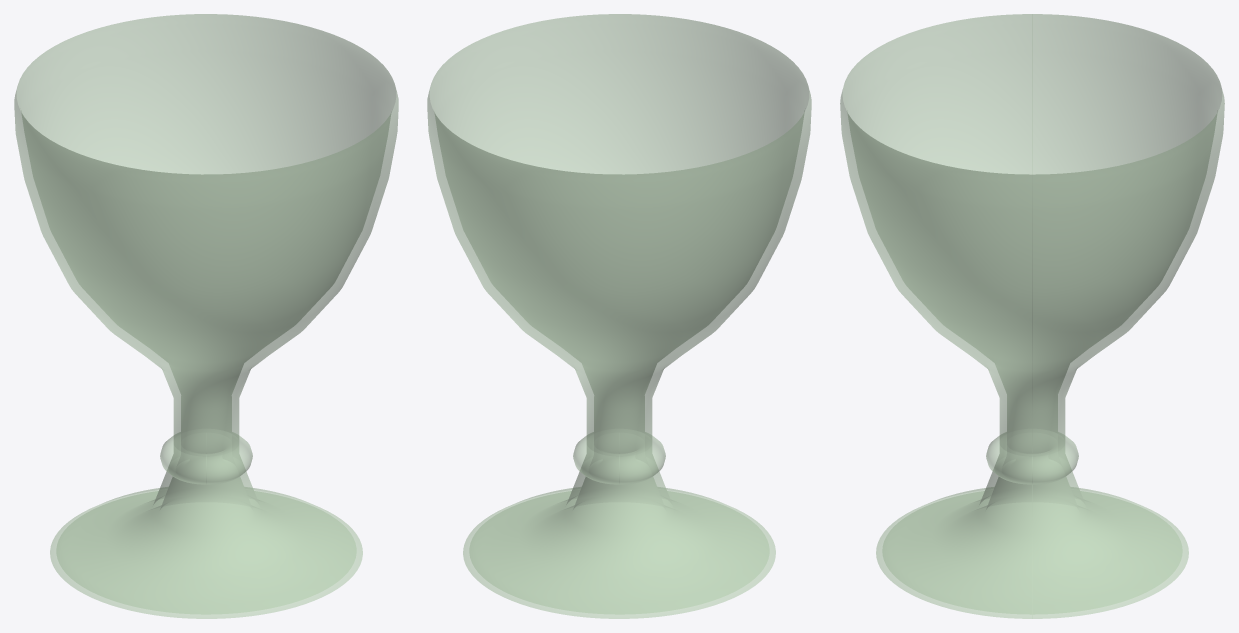
Rendered from glass_goblet.glb.
The picture shows the model from 3 angles, left to right: view 1: azimuth 30°, elevation 25°; view 2: azimuth 150°, elevation 25°; view 3: azimuth 270°, elevation 25°; orthographic projection.
Parts seen in each view (by area): view 1: goblet, knop; view 2: goblet, knop; view 3: goblet, knop.
Part boxes in pixels (x1,y1,x2,y2): goblet: [14, 14, 398, 618]; knop: [160, 432, 252, 484]; goblet: [427, 14, 811, 618]; knop: [573, 432, 665, 484]; goblet: [840, 14, 1224, 618]; knop: [986, 432, 1078, 484].
Bounding box in the file's own units: 0.0746 × 0.1003 × 0.0746.
